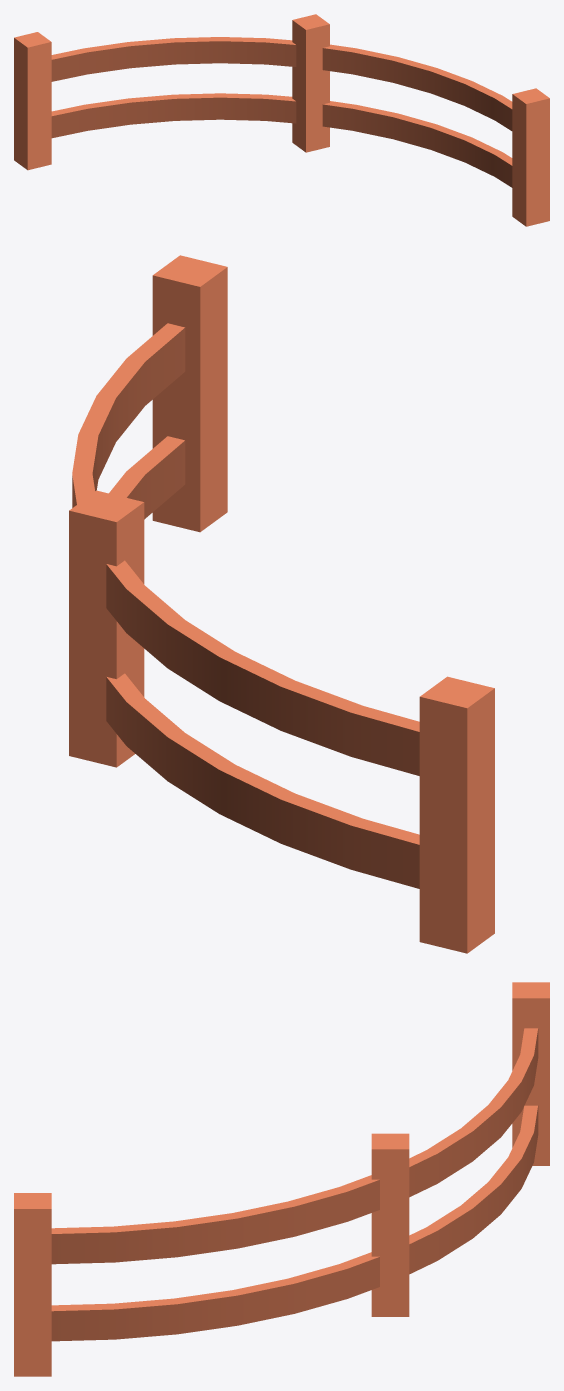
The model's file is fence_bendCenter.glb.
3 renders of one model, top to bottom at view 1: azimuth 30°, elevation 25°; view 2: azimuth 150°, elevation 25°; view 3: azimuth 270°, elevation 25°, orthographic. The views are drawn at different scales.
Visible parts, largest first — view 1: fence_bendCenter; view 2: fence_bendCenter; view 3: fence_bendCenter.
Part boxes in pixels (x1,y1,x2,y2): fence_bendCenter: [14, 14, 549, 226]; fence_bendCenter: [69, 255, 494, 953]; fence_bendCenter: [14, 982, 549, 1376].
Size of the model in its own units: 1 by 0.345 by 1.
